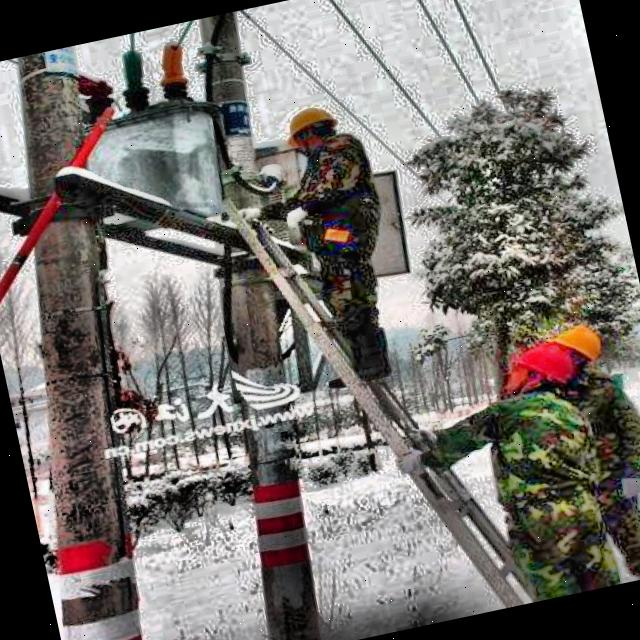helmet: (496, 339, 577, 402), (277, 96, 347, 158), (548, 319, 607, 377)
